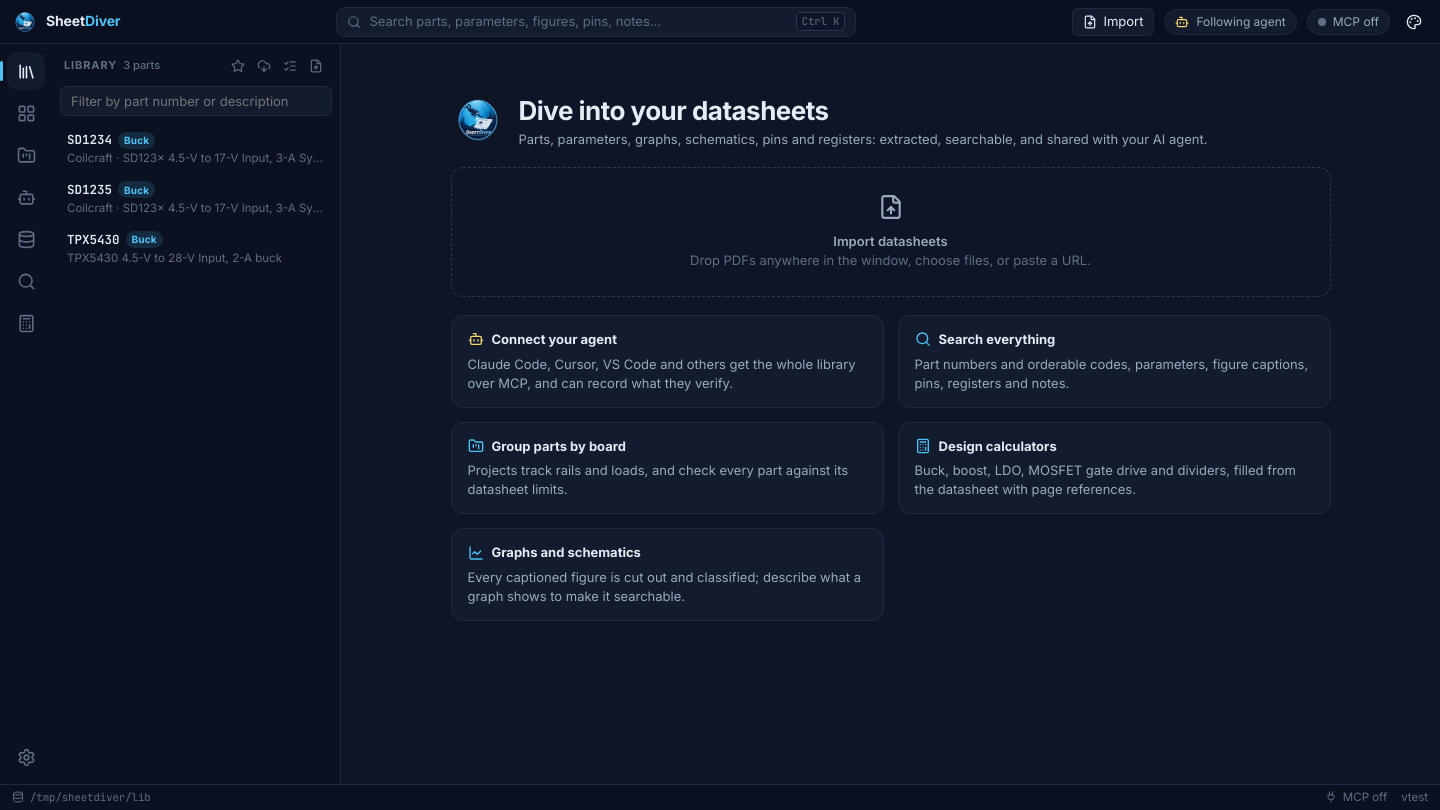
Test case: App › switches sidebar panels and creates a project
The width and height of the screenshot is (1440, 810).
expect the text "SD1234" is shown: met, box x1=67 y1=131 x2=112 y2=148
Click the button named "Projects". click: coordinates (26, 155)
box: x1=7 y1=136 x2=45 y2=174
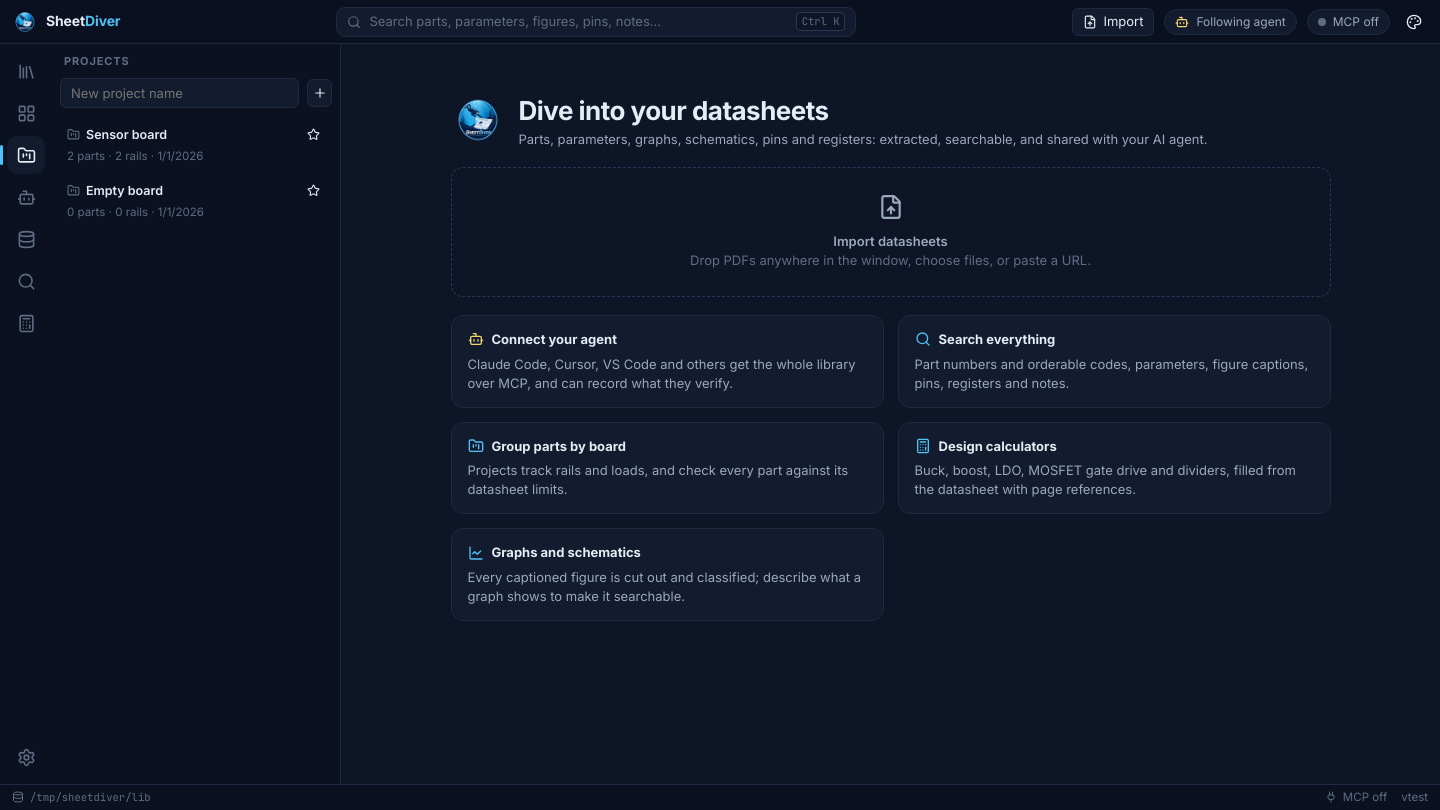
expect the text "Sensor board" is shown: met, box x1=67 y1=123 x2=325 y2=147
Type "Charger board" into the field with placeholder "New project name". click: coordinates (180, 93)
box: x1=60 y1=78 x2=299 y2=108
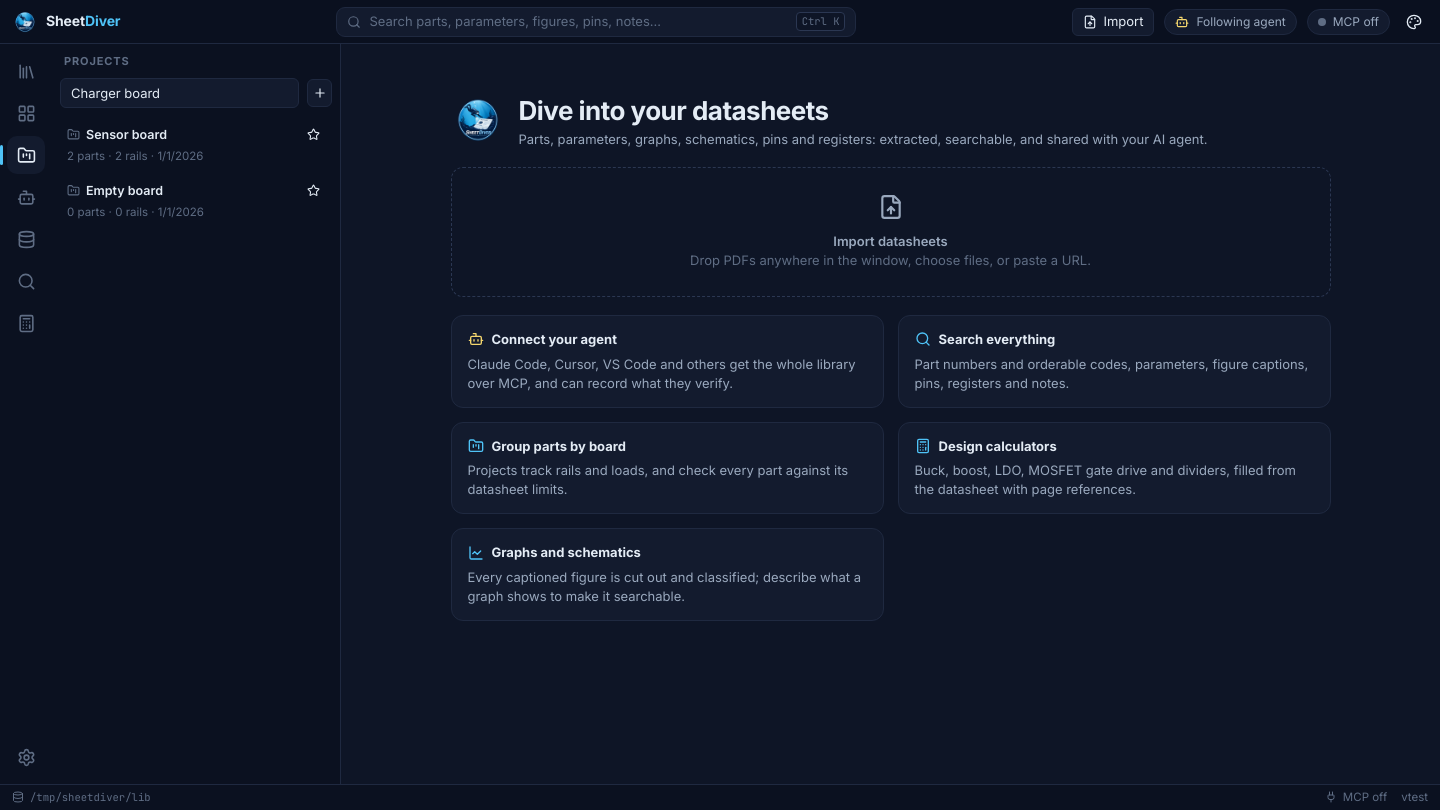
Press Enter in the field with placeholder "New project name", box x1=60 y1=78 x2=299 y2=108
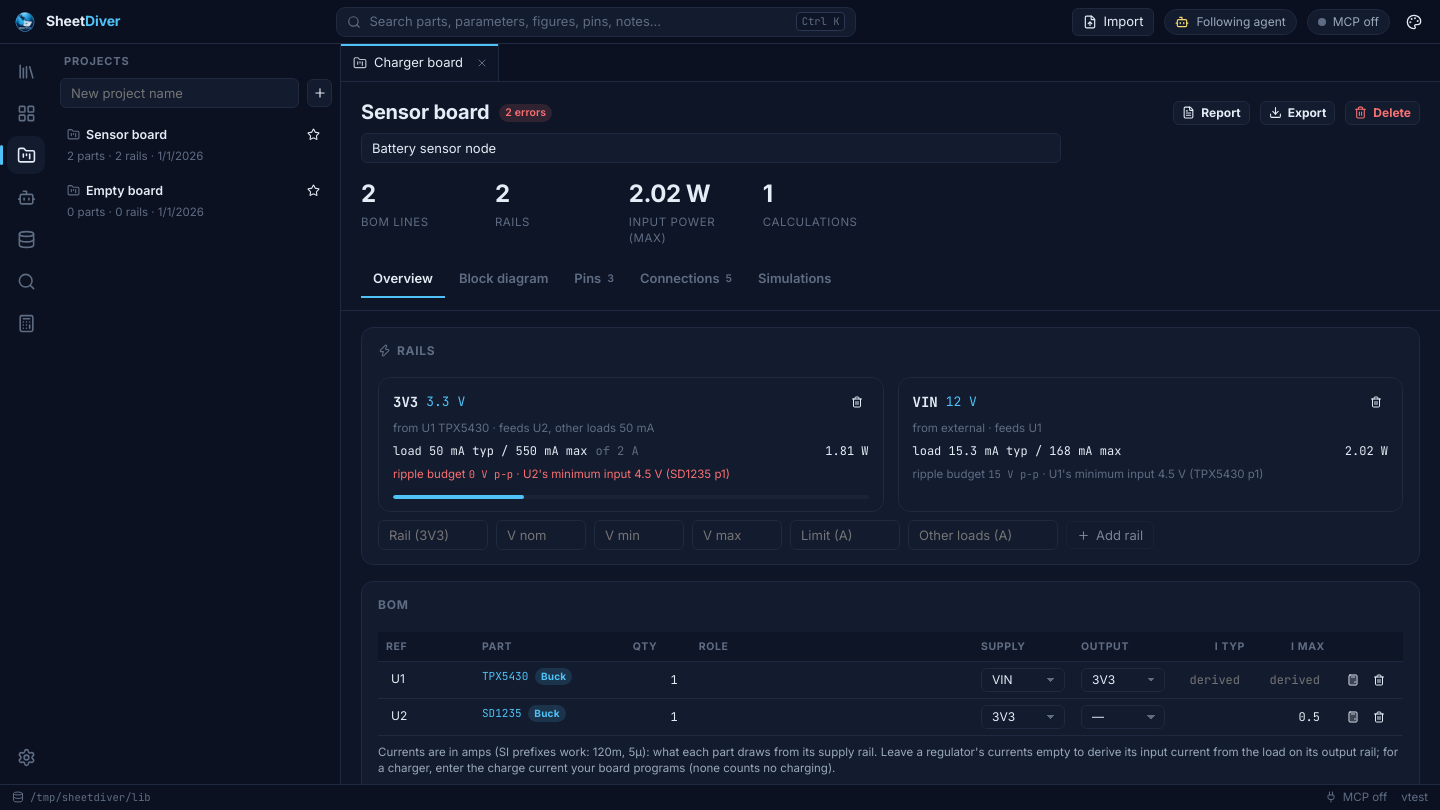
Click the text "Sensor board". click: coordinates (126, 134)
box: x1=67 y1=123 x2=325 y2=147
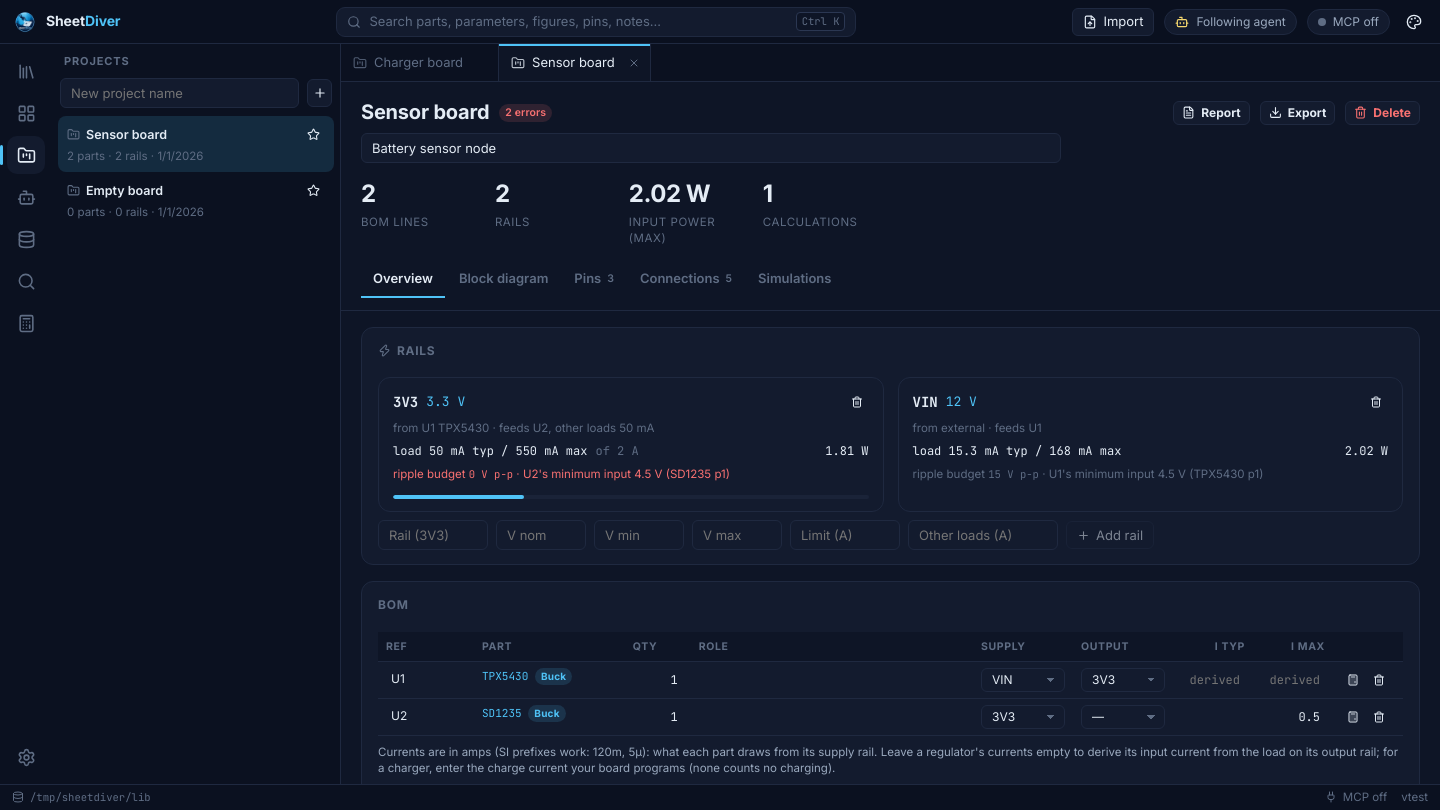
expect the heading "Sensor board 2 errors Report Export Delete" is shown: met, box x1=361 y1=98 x2=1420 y2=127
Click the button named "Component types". click: coordinates (26, 113)
box: x1=7 y1=94 x2=45 y2=132
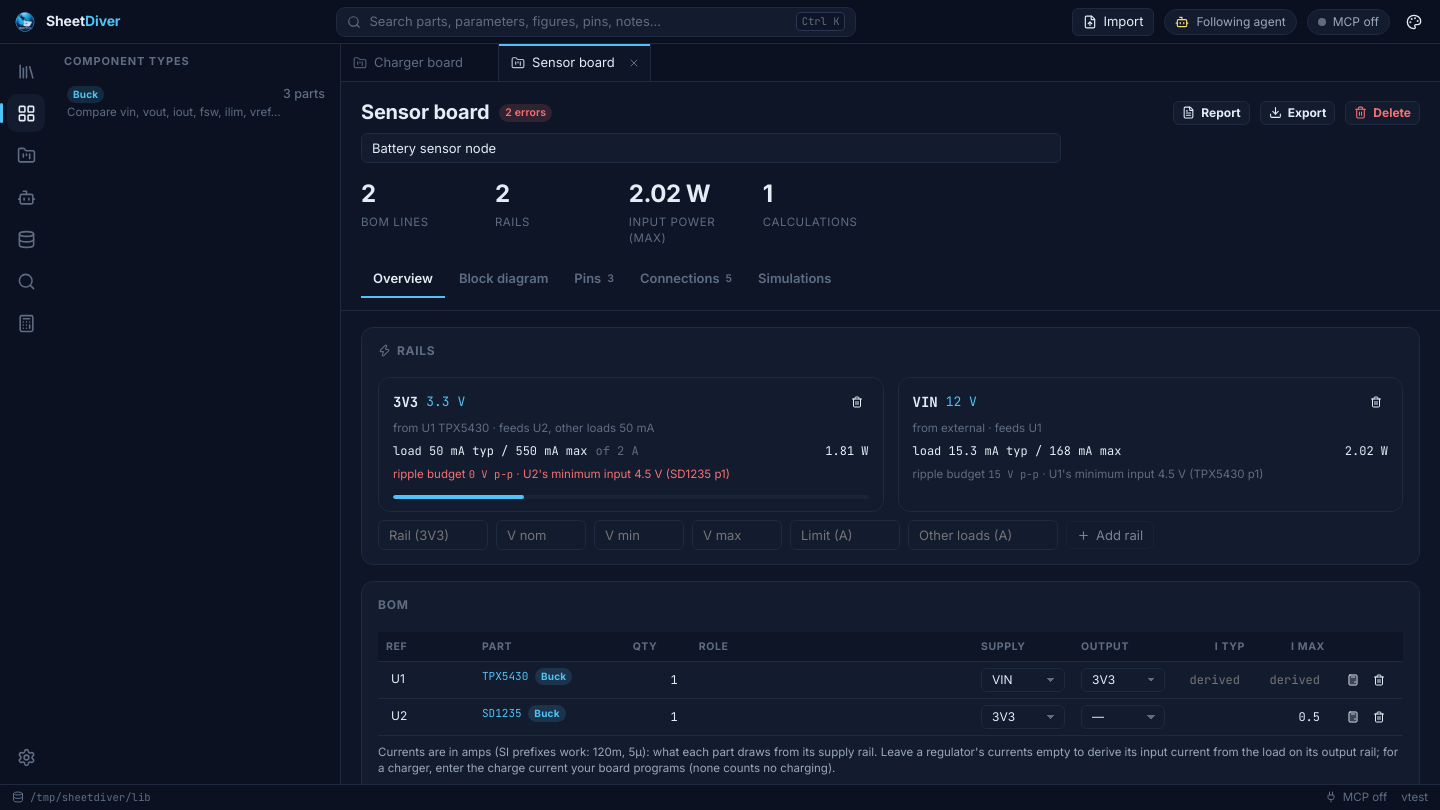
expect the text "Buck" below "Component types" is shown: met, box x1=73 y1=88 x2=98 y2=100
